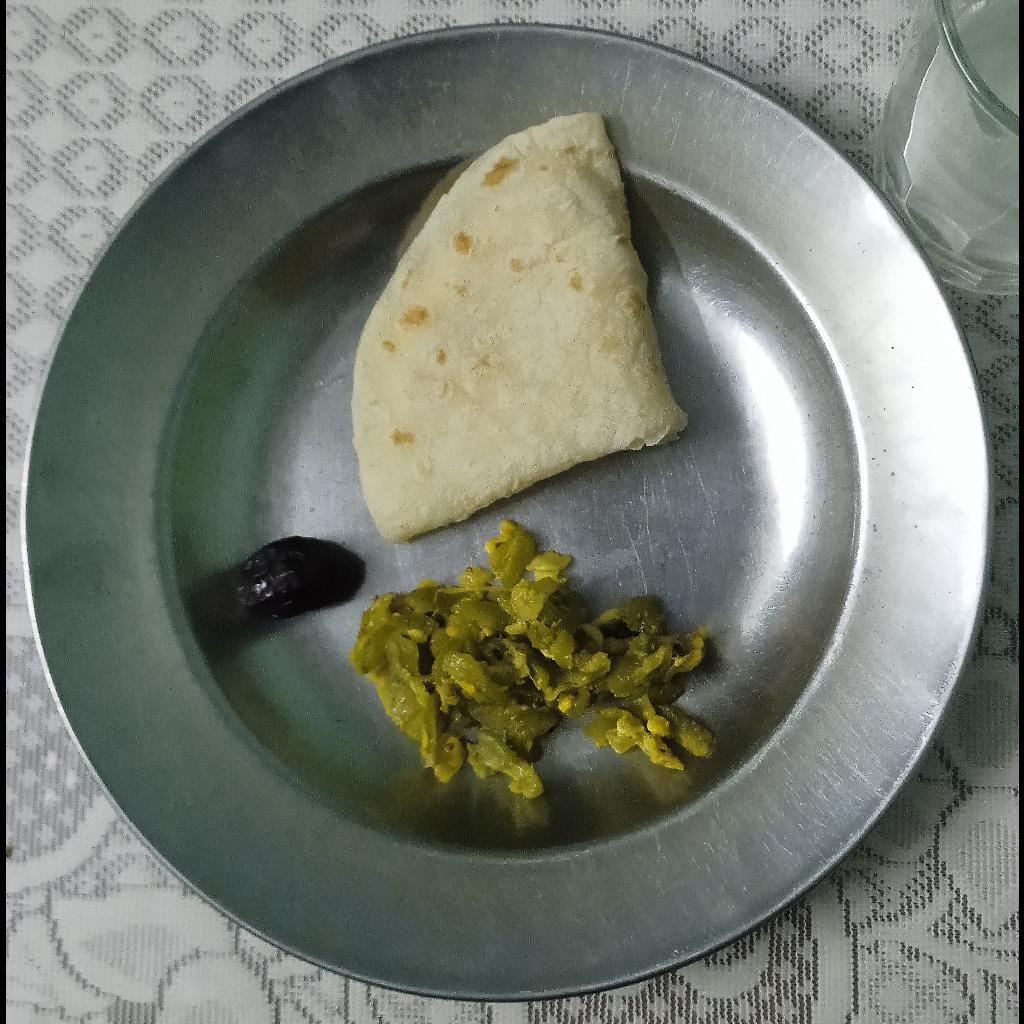dates: (238, 535, 366, 621)
okra: (347, 519, 710, 805)
ruti: (348, 114, 695, 547)
